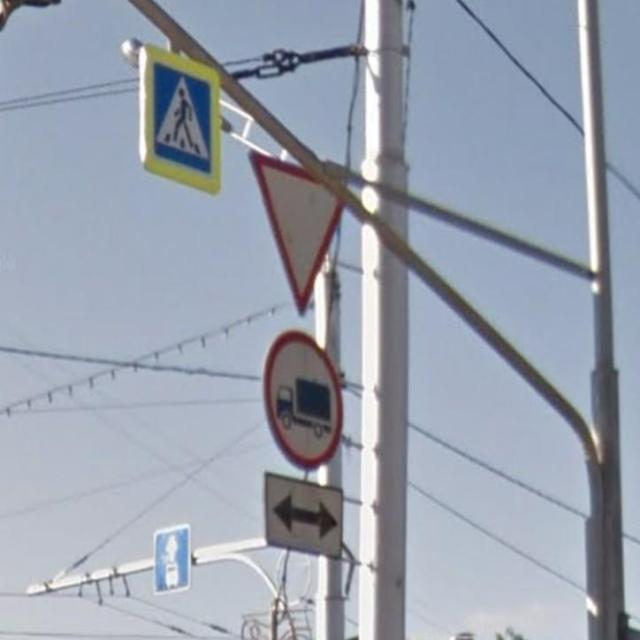crosswalk: (138, 42, 223, 198)
give_way: (248, 147, 348, 318)
truck: (262, 327, 344, 472)
